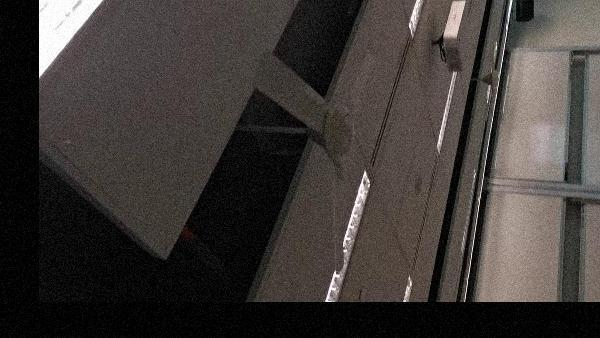light_on: (39, 0, 136, 92), (316, 163, 376, 302), (430, 64, 463, 163), (398, 0, 443, 38), (396, 267, 420, 302)
